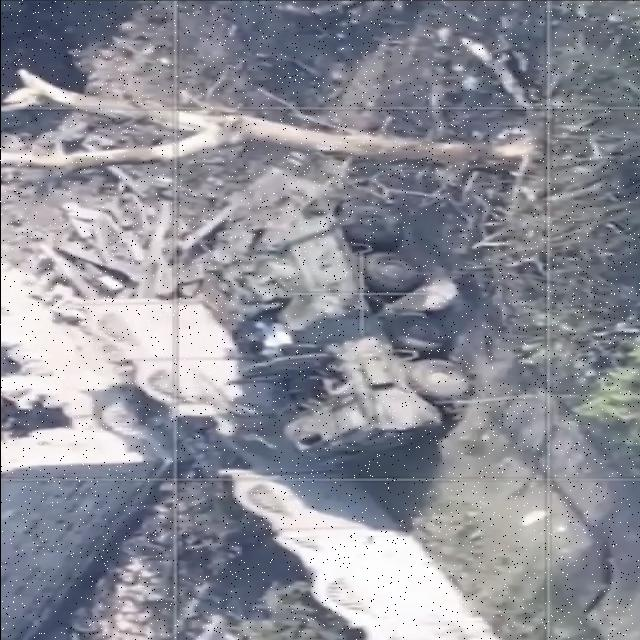APC-IFV: (162, 190, 471, 464)
